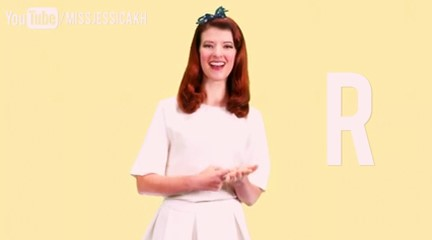R: (196, 160, 261, 194)
